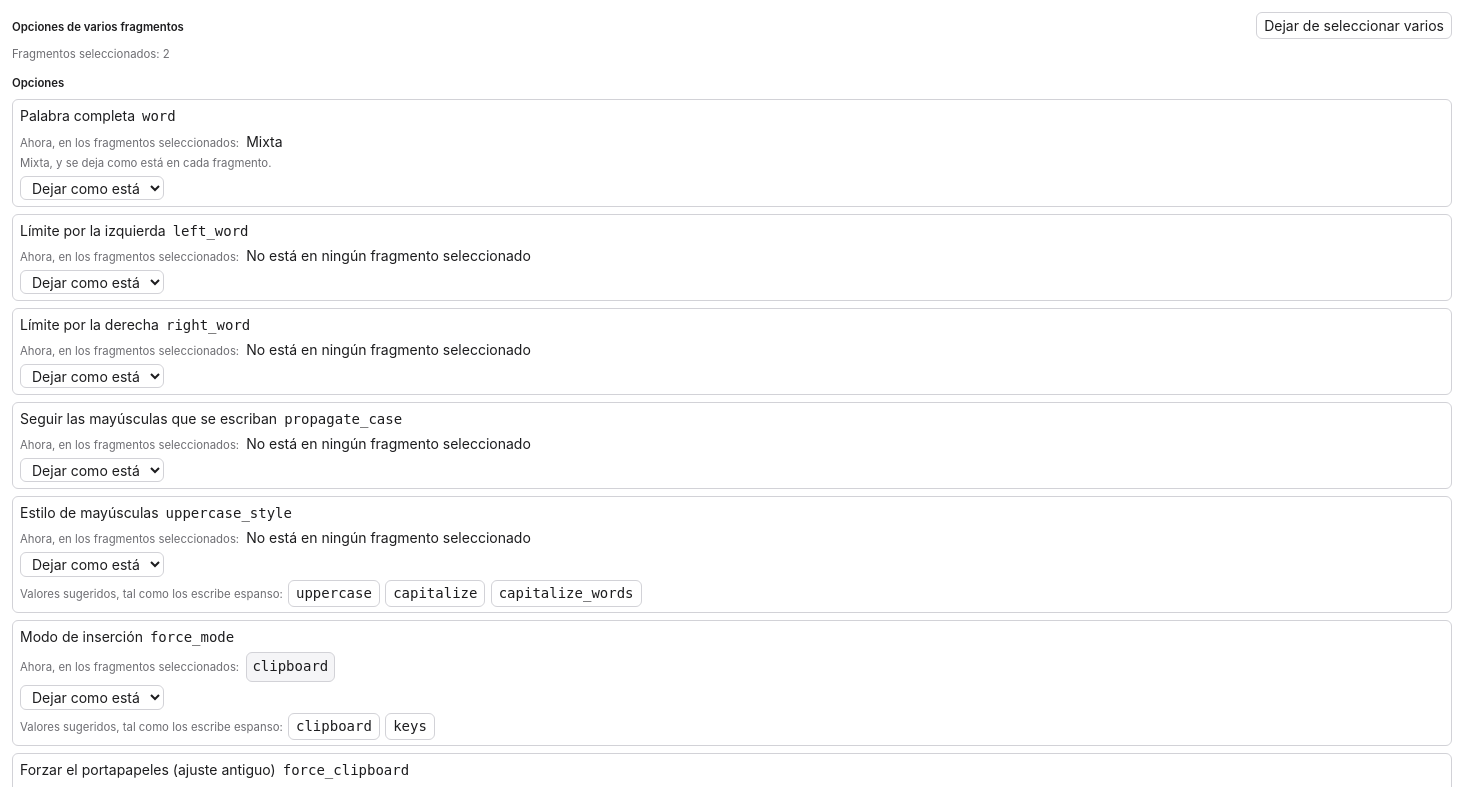
Test: the inspector alone, in es › draws Mixed from two spellings of one text and the shared bytes of another, and sends nothing untouched
Expected: the text "Mixta" is shown, [246,131,283,152]
Expected: the text with class "mixed" reads "Mixta, y se deja como está en cada fragmento.", [20,156,271,170]
Step 1. Select "Quitar" in the dropdown named "Qué hacer con word" → x=92, y=188, box [20,176,164,200]
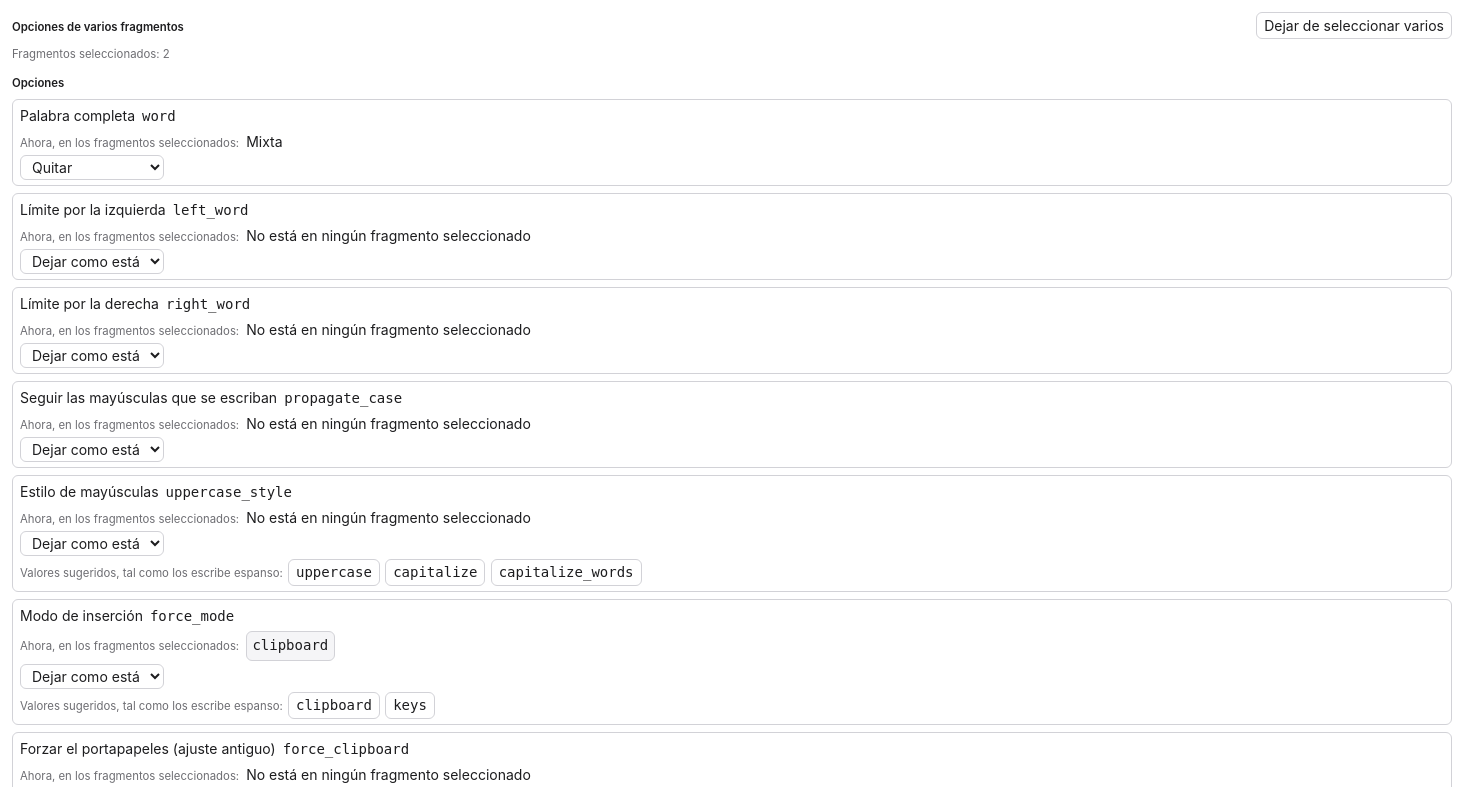
Now the text with class "mixed" is gone
